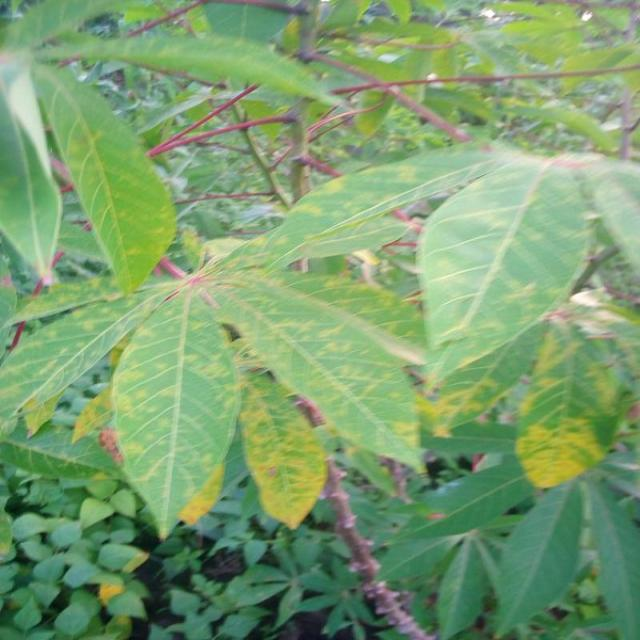cassava leaf: (31, 58, 178, 296), (110, 282, 242, 540), (237, 367, 328, 530)
